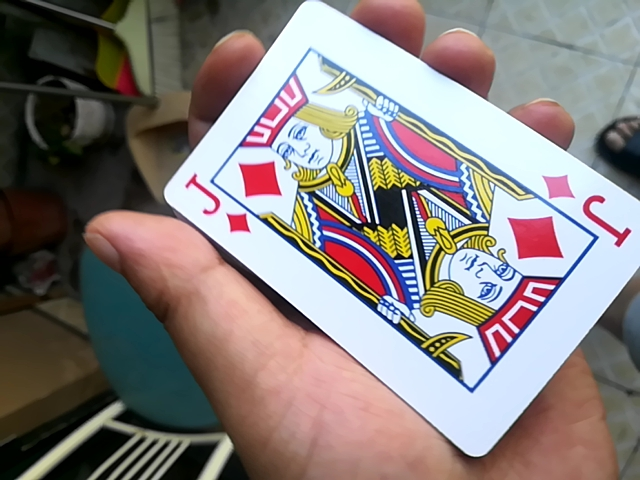fk j: (141, 8, 638, 452)
